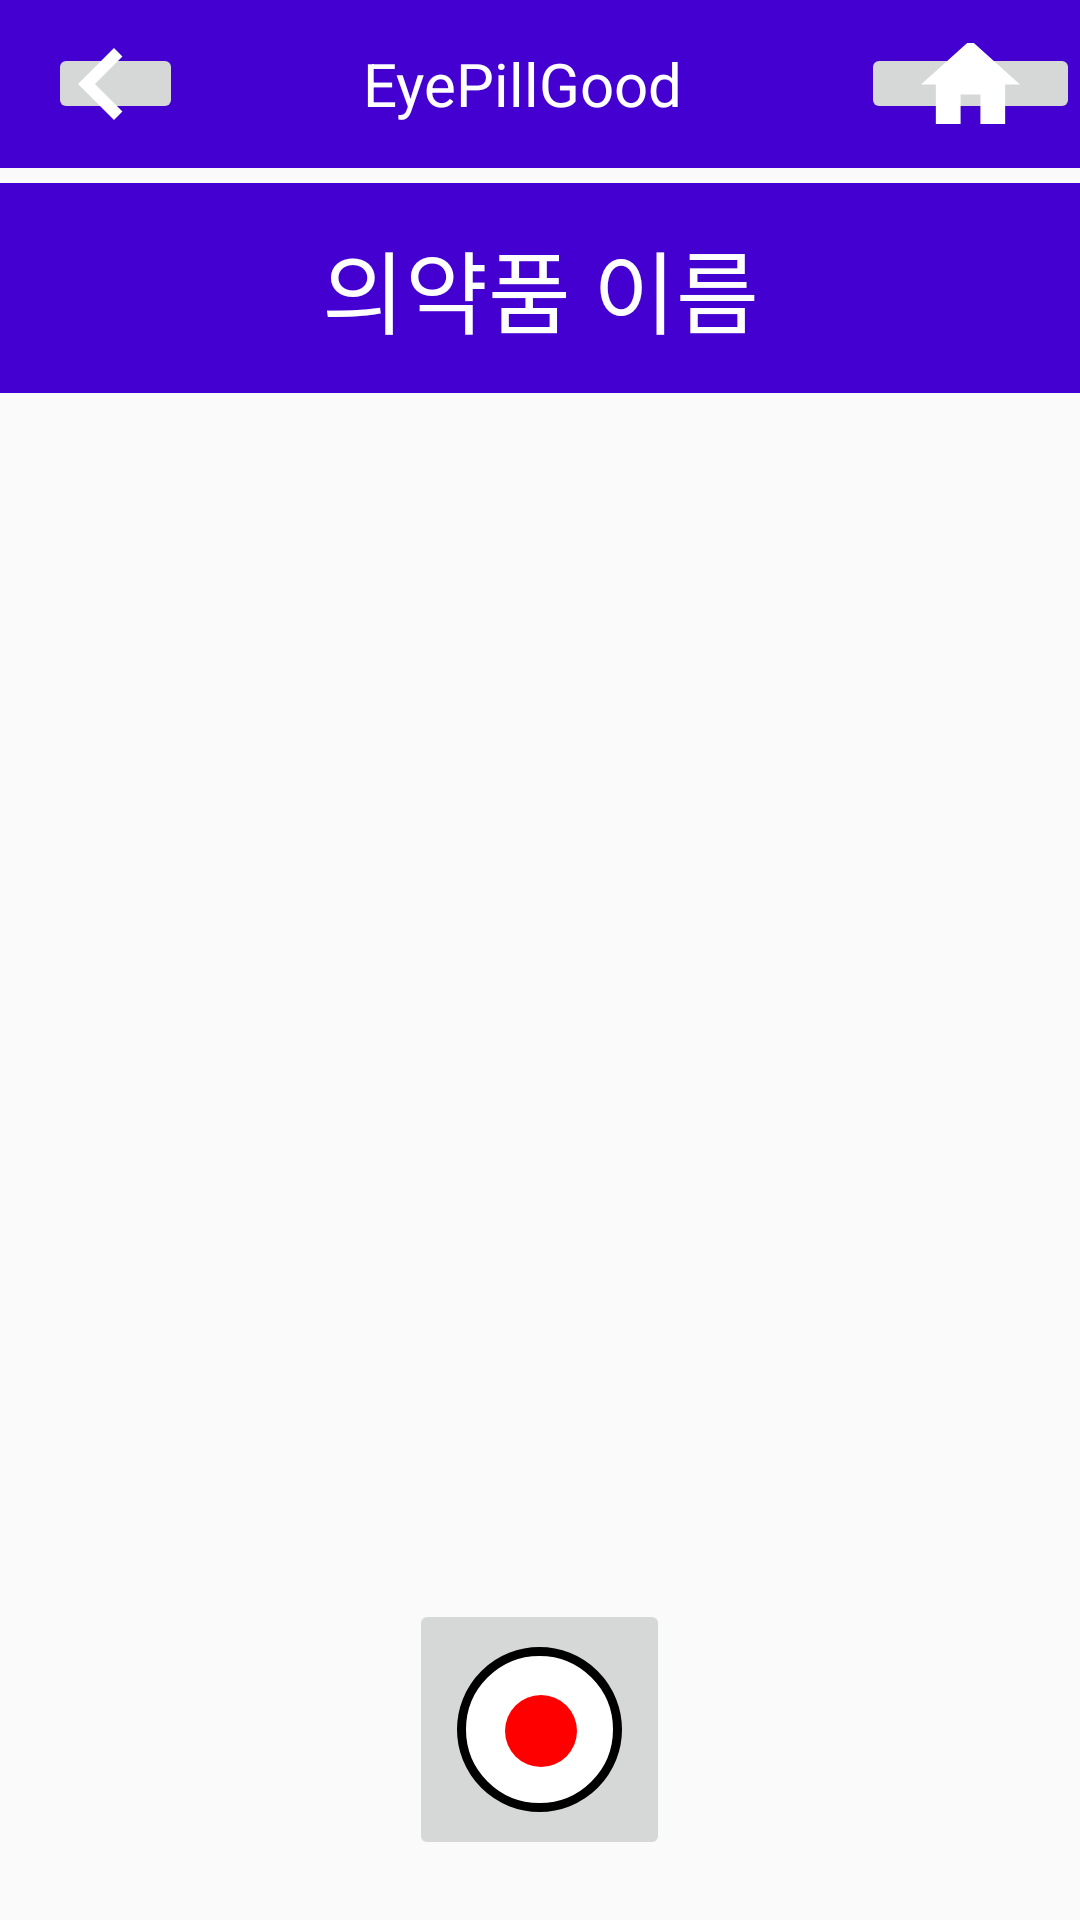

Icons on this 1080 × 1920 Android screen, each with its box as [x1=x1, y1=y1, x2=x2, y2=y2]:
Go back: [x1=60, y1=48, x2=171, y2=120]
Home: [x1=873, y1=43, x2=1068, y2=124]
start audio: [x1=421, y1=1617, x2=658, y2=1842]
